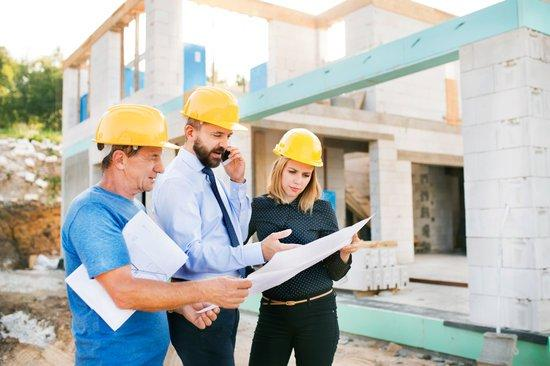helmet: (94, 104, 180, 154), (181, 84, 249, 132), (272, 128, 325, 170)
